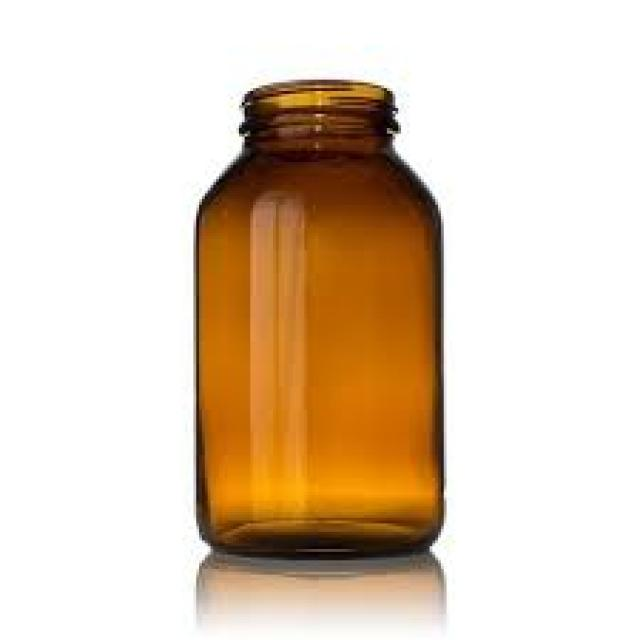glass: (193, 80, 444, 558)
